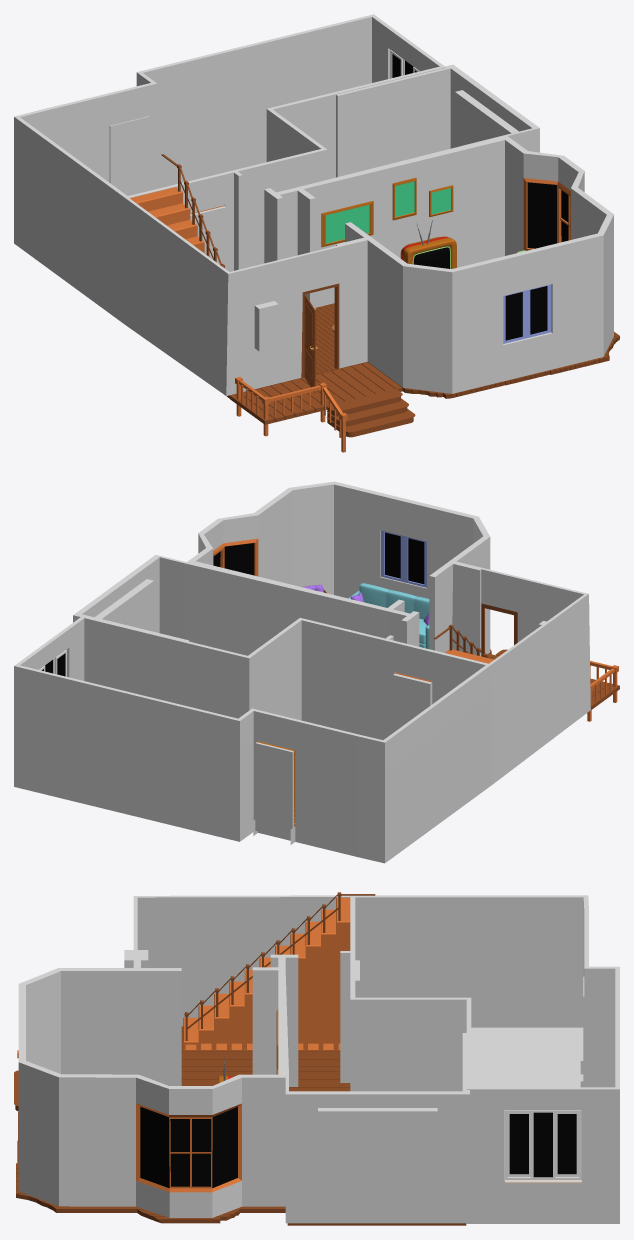
Rendered from House5.fbx.
3 renders of one model, top to bottom at view 1: azimuth 30°, elevation 25°; view 2: azimuth 150°, elevation 25°; view 3: azimuth 270°, elevation 25°, orthographic. The views are drawn at different scales.
Visible parts, largest first — view 1: Living room, Kitchen, wall, Floor outer, CTRL_Hole.003, Floor inner, Stairs.001, S window panel Long, CTRL_Hole.001, Cube.001, Picture.002, Cube.003 (+8 smaller); view 2: Kitchen, Living room, wall, CTRL_Hole.003, S window panel Long, Kitchen floor, CTRL_Hole.001, Classic_Sofa_Beige, CTRL_Hole.002; view 3: Living room, Kitchen, wall, CTRL_Hole.001, Cube.001, Kitchen floor, Floor inner, Window, Cube.002.
Boxes of the visible parts, bbox=[...] form: Living room: bbox=[264, 64, 613, 393]; Kitchen: bbox=[14, 14, 445, 320]; wall: bbox=[126, 198, 339, 395]; Floor outer: bbox=[230, 362, 402, 424]; CTRL_Hole.003: bbox=[109, 116, 149, 195]; Floor inner: bbox=[226, 303, 619, 398]; Stairs.001: bbox=[326, 389, 415, 437]; S window panel Long: bbox=[503, 284, 551, 343]; CTRL_Hole.001: bbox=[455, 90, 518, 147]; Cube.001: bbox=[130, 187, 211, 258]; Picture.002: bbox=[321, 201, 373, 247]; Cube.003: bbox=[400, 220, 456, 268]; Kitchen: bbox=[14, 615, 491, 859]; Living room: bbox=[73, 481, 490, 656]; wall: bbox=[481, 568, 590, 784]; CTRL_Hole.003: bbox=[255, 742, 295, 839]; S window panel Long: bbox=[381, 530, 426, 587]; Kitchen floor: bbox=[14, 782, 491, 863]; CTRL_Hole.001: bbox=[95, 579, 153, 631]; Classic_Sofa_Beige: bbox=[348, 583, 429, 648]; CTRL_Hole.002: bbox=[393, 673, 432, 732]; Living room: bbox=[18, 953, 469, 1223]; Kitchen: bbox=[340, 895, 619, 1219]; wall: bbox=[133, 895, 350, 1026]; CTRL_Hole.001: bbox=[318, 1108, 437, 1199]; Cube.001: bbox=[183, 897, 350, 1051]; Kitchen floor: bbox=[466, 1027, 619, 1223]; Floor inner: bbox=[16, 1026, 466, 1225]; Window: bbox=[505, 1110, 581, 1183]; Cube.002: bbox=[184, 892, 375, 1040].
Size of the model in its own units: 1001 by 441 by 1265.
